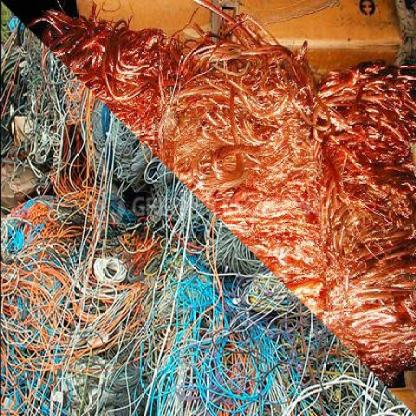wires: (0, 2, 415, 415)
